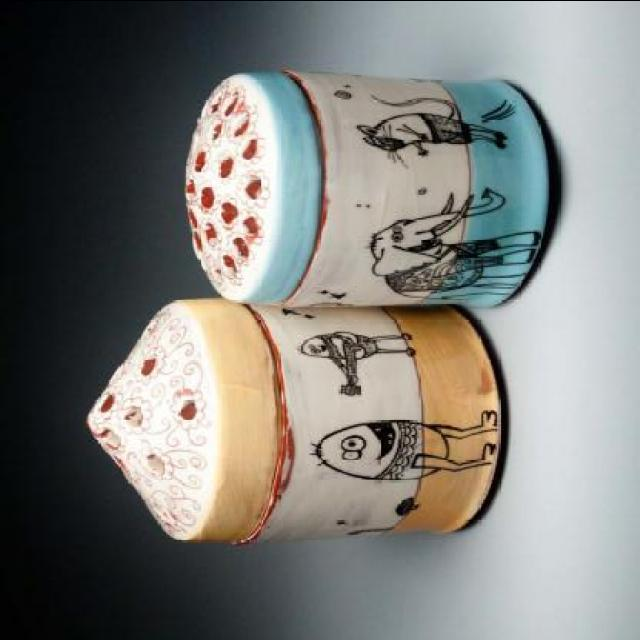Cake: (81, 297, 502, 543), (179, 70, 553, 306)
